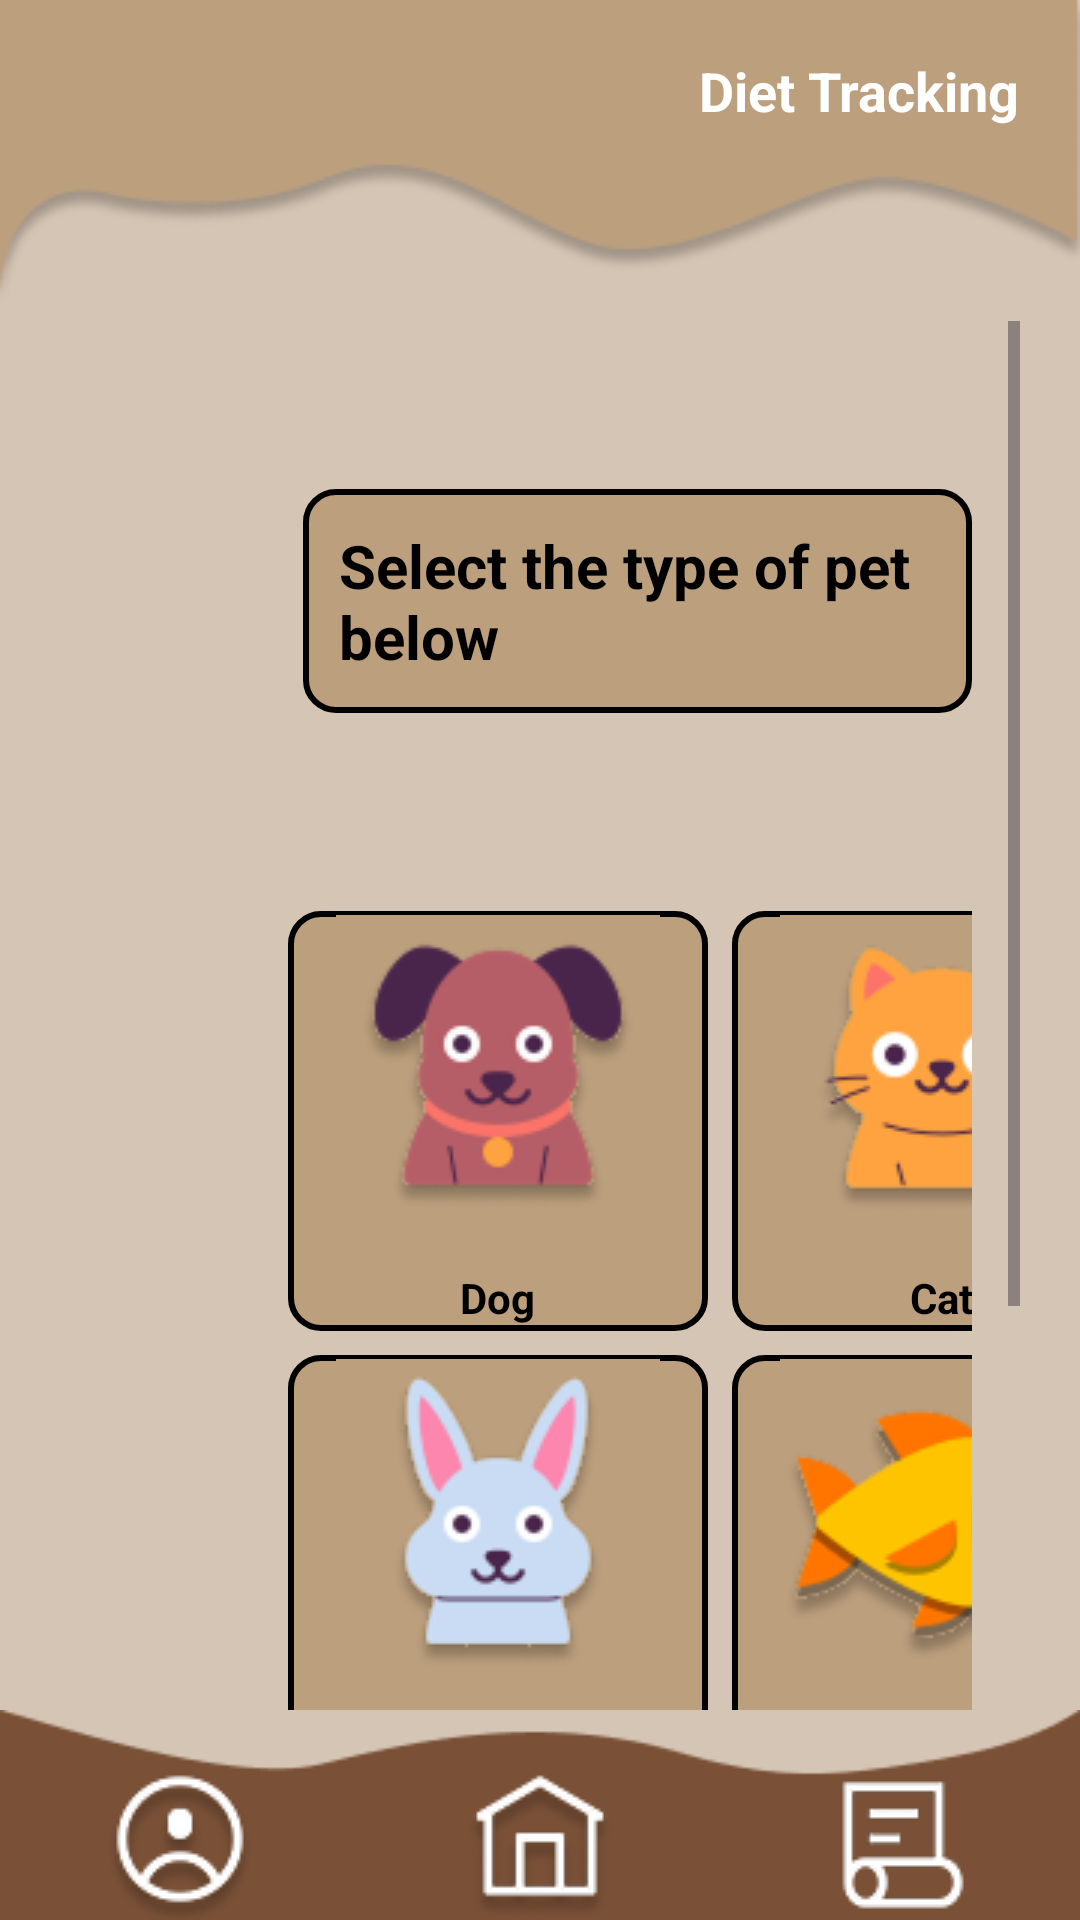

Where icons sit on this 1080 × 1920 app screen, as (x1, y1, x2, y2):
Rabbit: (404, 1378, 591, 1656)
